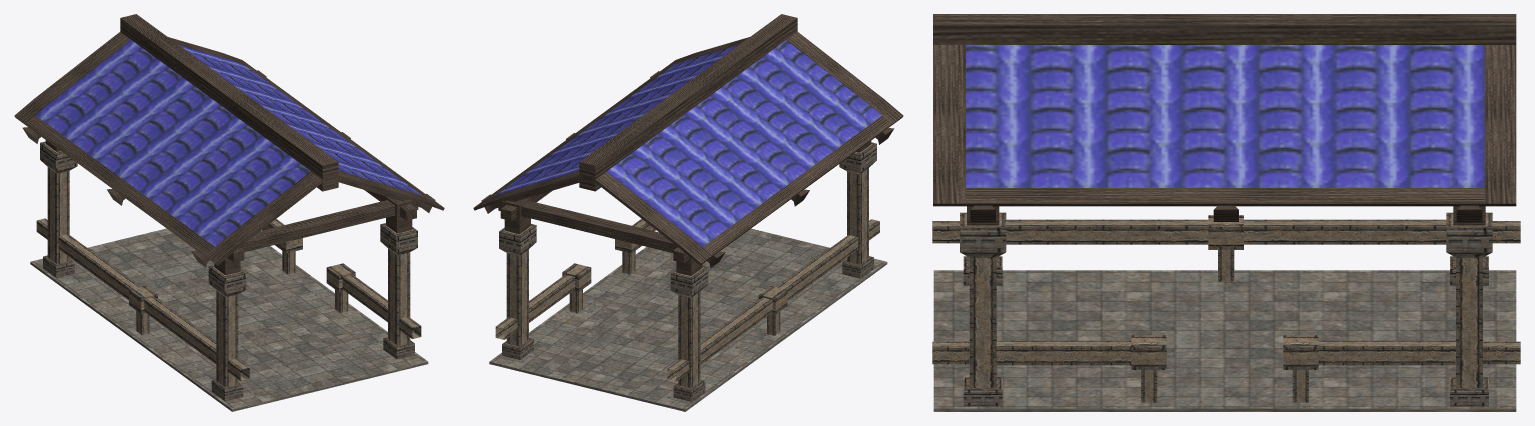
File: corredorjp-ENT2b.fbx
The picture shows the model from 3 angles, left to right: view 1: azimuth 30°, elevation 25°; view 2: azimuth 150°, elevation 25°; view 3: azimuth 270°, elevation 25°; orthographic projection. The views are drawn at different scales.
Parts seen in each view (by area): view 1: Cube; view 2: Cube; view 3: Cube.
Boxes of the visible parts, x1,y1,x2,y2 form: Cube: [14, 14, 444, 411]; Cube: [473, 14, 903, 411]; Cube: [932, 14, 1520, 411].
Size of the model in its own units: 3.36 by 3.05 by 5.04.
